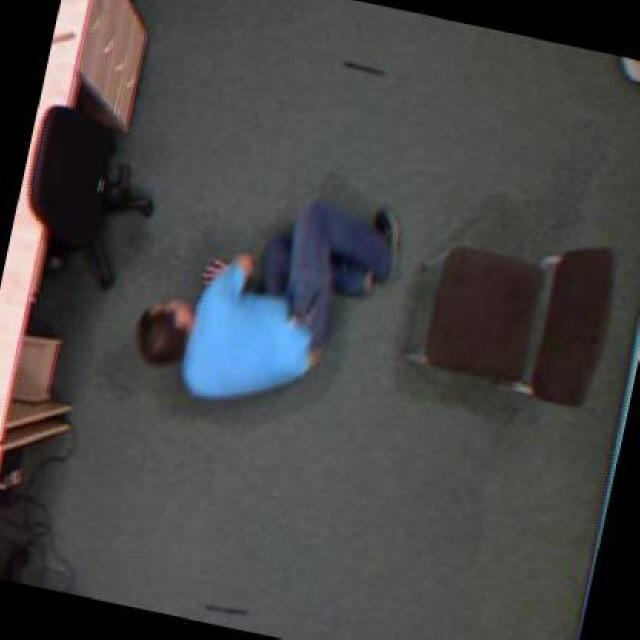Fall: (137, 202, 396, 400)
